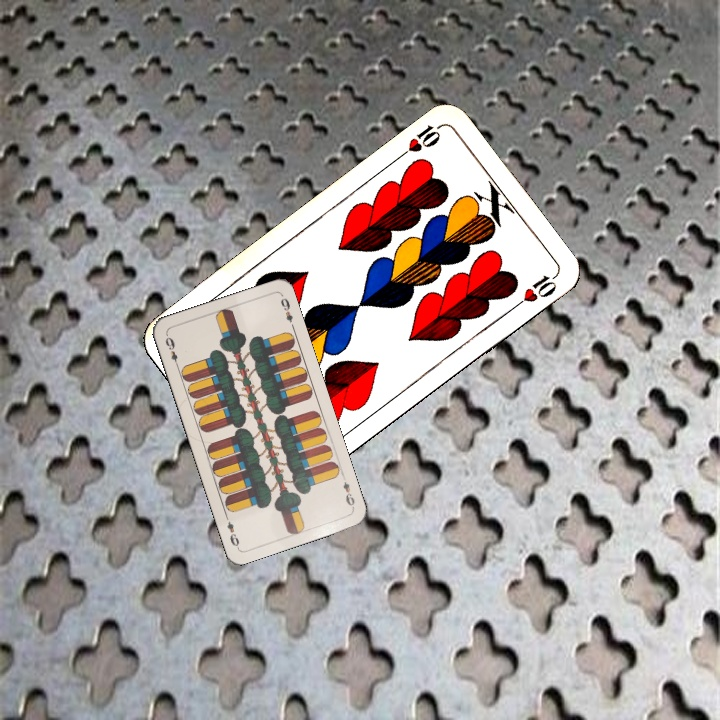E9: (161, 331, 181, 371), (338, 471, 357, 511)
H10: (394, 120, 444, 162)
